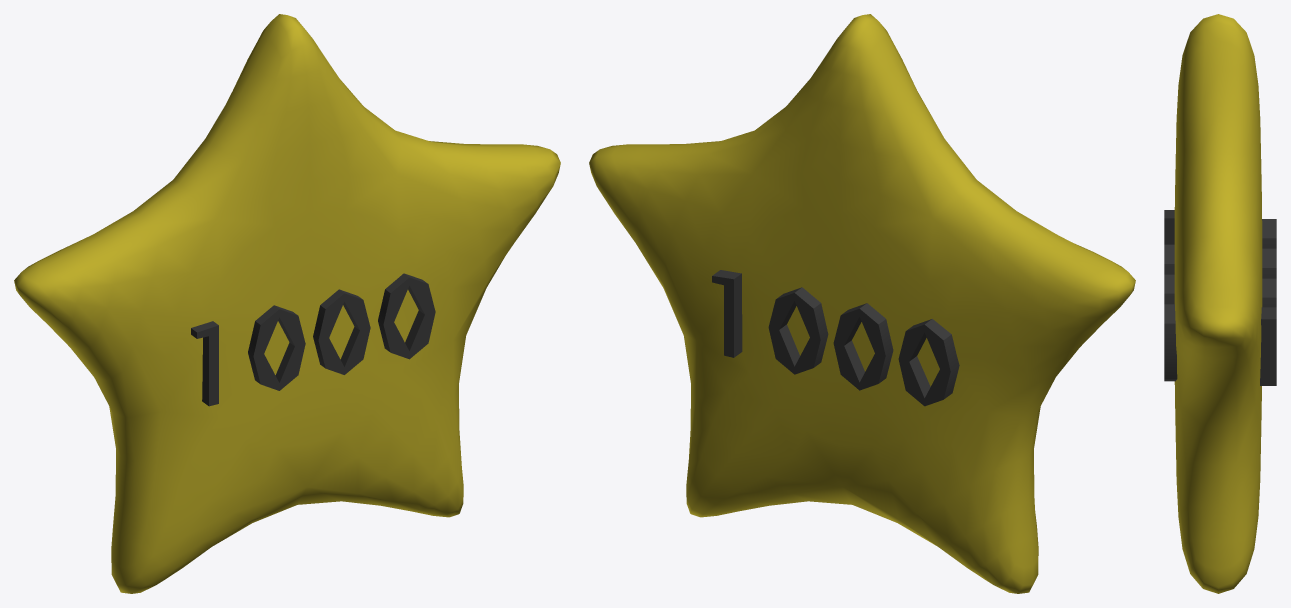
Rendered from GoldStar.fbx.
3 renders of one model, left to right at view 1: azimuth 30°, elevation 25°; view 2: azimuth 150°, elevation 25°; view 3: azimuth 270°, elevation 25°, orthographic. The views are drawn at different scales.
Parts seen in each view (by area): view 1: GoldStar; view 2: GoldStar; view 3: GoldStar.
Part boxes in pixels (<box>): GoldStar: <box>14,14,560,593</box>; GoldStar: <box>589,14,1135,593</box>; GoldStar: <box>1164,14,1276,593</box>.
Size of the model in its own units: 3.26 by 3.11 by 0.6274.
